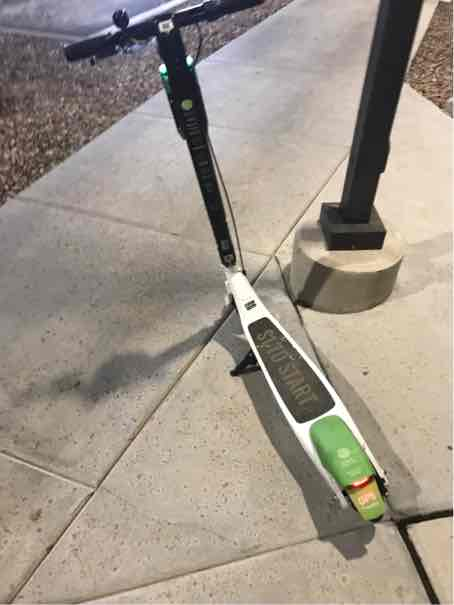scooter: (58, 1, 417, 539)
